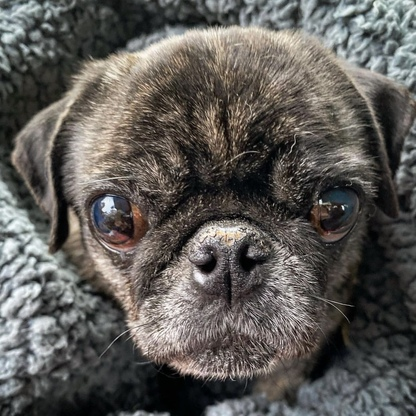Pug: (5, 16, 416, 406)
